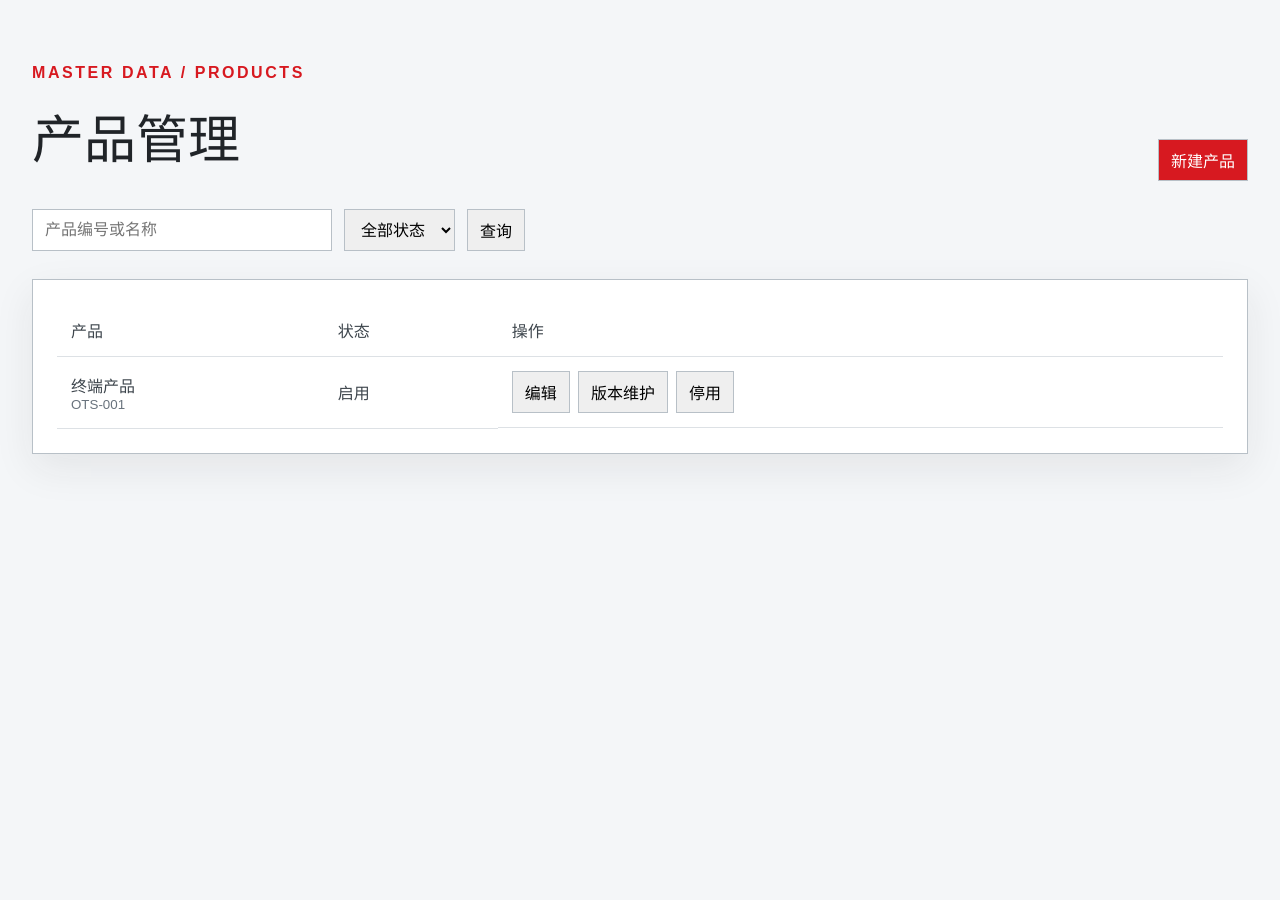
Test: ProductAdminPage › shows version records after opening version maintenance
The image size is (1280, 900).
Click the button with aria-label "维护终端产品版本" at (623, 392), box [578, 371, 668, 413]
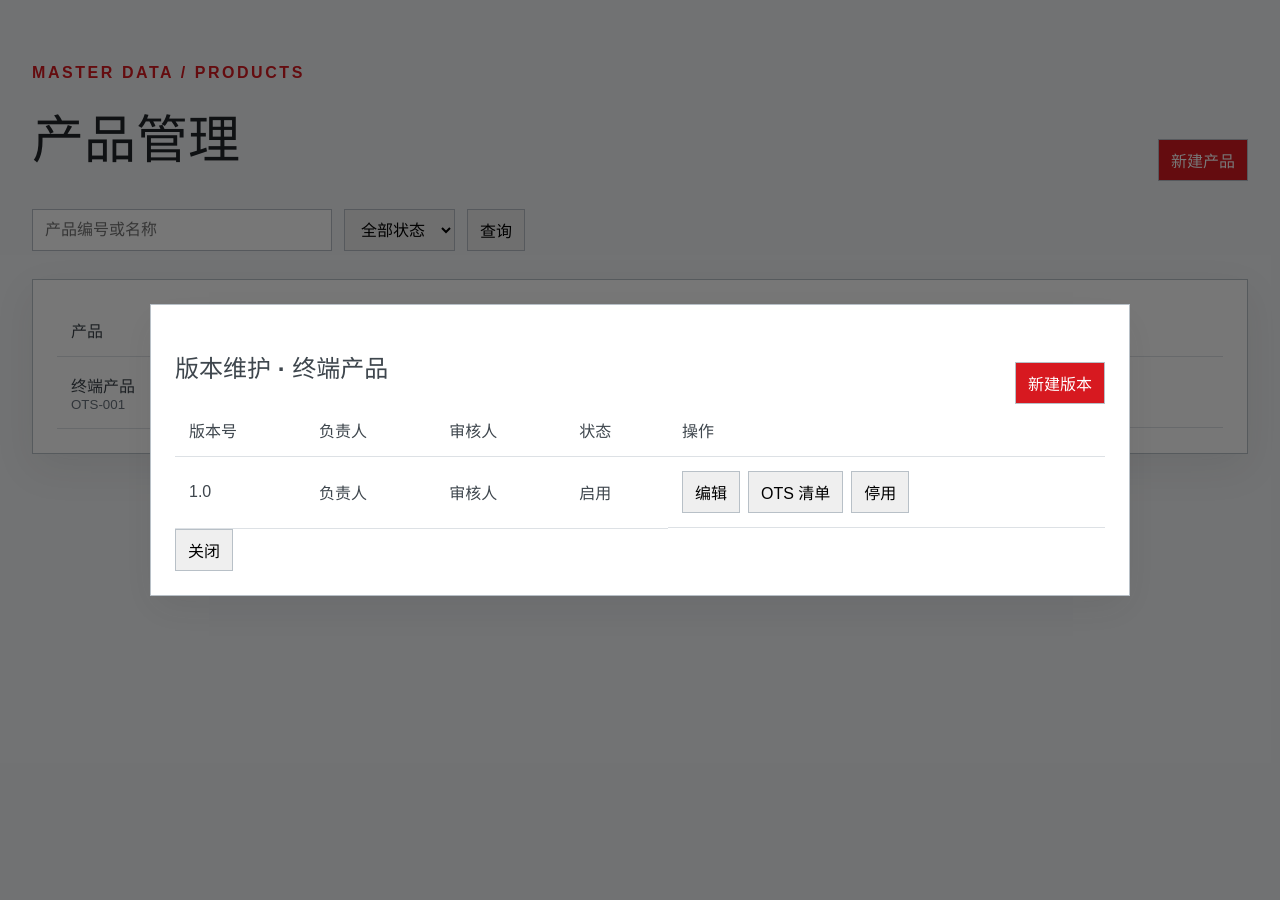
Check: the dialog shows "版本维护", box [175, 355, 388, 382]
Check: the text "1.0" is shown, box [175, 457, 305, 528]
